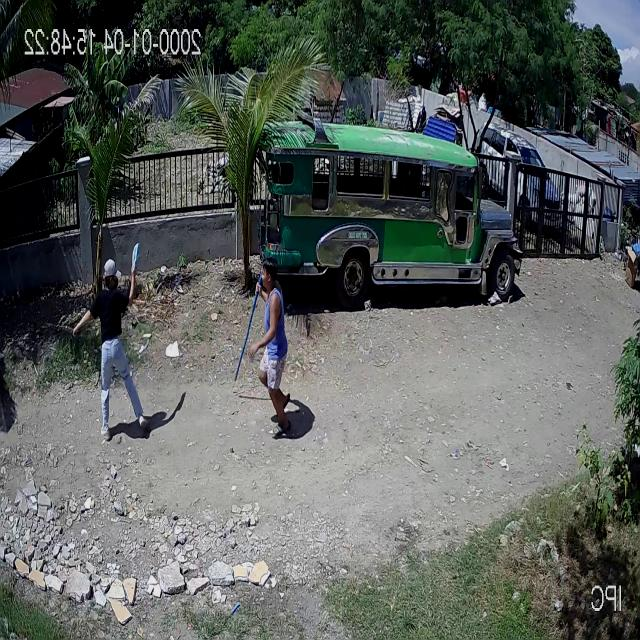running: (73, 243, 149, 440), (235, 260, 293, 433)
